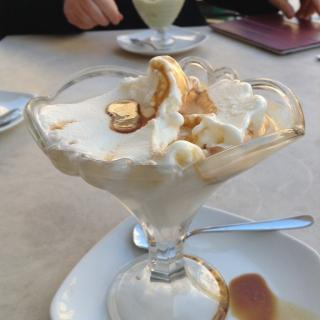Ice cream: (40, 57, 267, 230), (129, 0, 186, 33)
